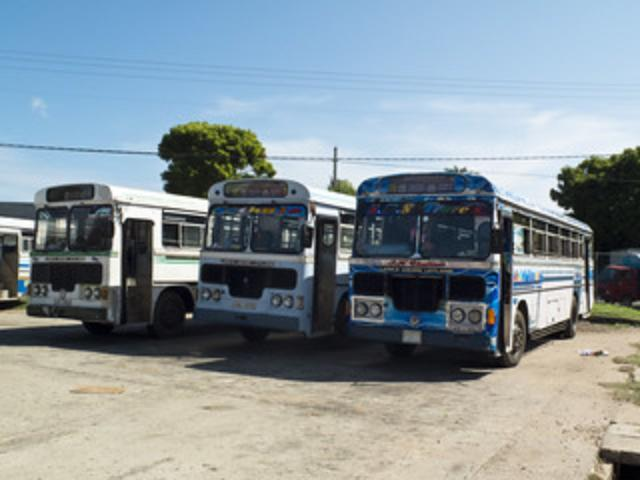bus: (346, 170, 596, 364), (26, 182, 200, 336), (194, 176, 348, 344)
